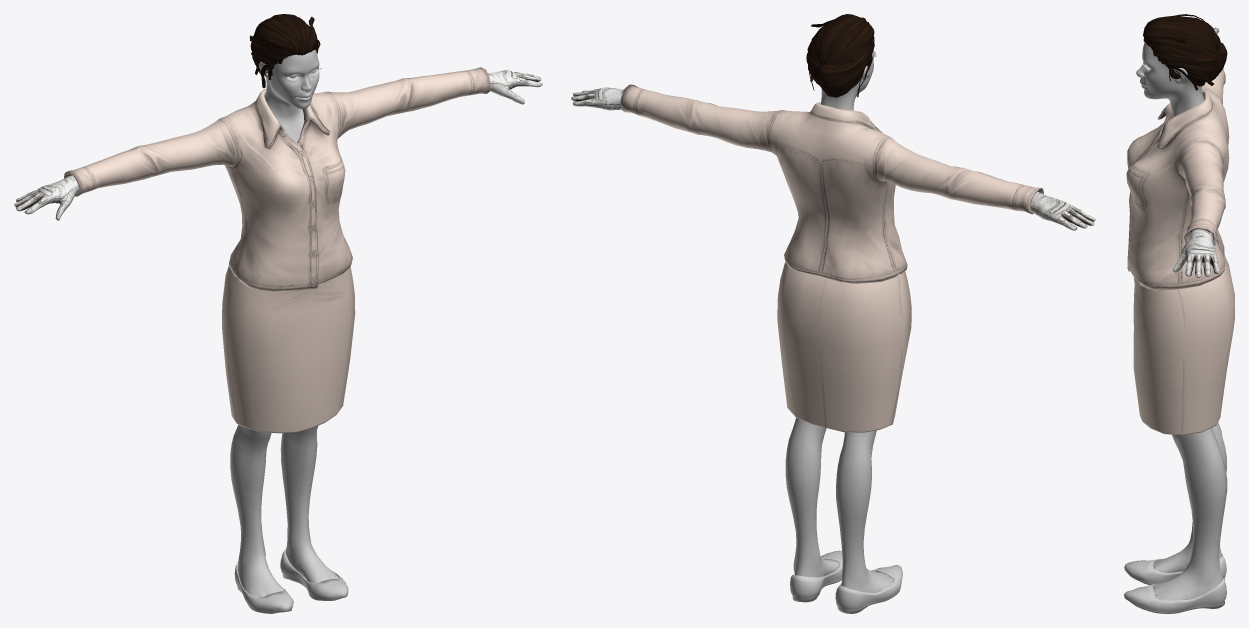
File: character.obj
3 renders of one model, left to right at view 1: azimuth 30°, elevation 25°; view 2: azimuth 150°, elevation 25°; view 3: azimuth 270°, elevation 25°, orthographic.
Visible parts, largest first — view 1: Tops, Bottoms, Body, Hair, Gloves, Shoes; view 2: Tops, Bottoms, Body, Hair, Shoes, Gloves; view 3: Tops, Bottoms, Body, Hair, Shoes, Gloves.
Part boxes in pixels (left/top/right/bottom): Tops: left=64, top=67, right=490, bottom=292; Bottoms: left=222, top=265, right=355, bottom=433; Body: left=230, top=49, right=339, bottom=597; Hair: left=249, top=14, right=320, bottom=88; Gloves: left=14, top=70, right=542, bottom=220; Shoes: left=234, top=547, right=348, bottom=613; Tops: left=620, top=84, right=1043, bottom=283; Bottoms: left=777, top=262, right=911, bottom=432; Body: left=785, top=50, right=893, bottom=594; Hair: left=806, top=14, right=874, bottom=97; Shoes: left=790, top=550, right=902, bottom=613; Gloves: left=571, top=87, right=1095, bottom=230; Tops: left=1126, top=69, right=1229, bottom=290; Bottoms: left=1133, top=254, right=1234, bottom=435; Body: left=1136, top=42, right=1227, bottom=605; Hair: left=1143, top=14, right=1227, bottom=90; Shoes: left=1124, top=554, right=1226, bottom=613; Gloves: left=1173, top=27, right=1219, bottom=277.
Bounding box in the file's own units: 171 × 179 × 31.44.
